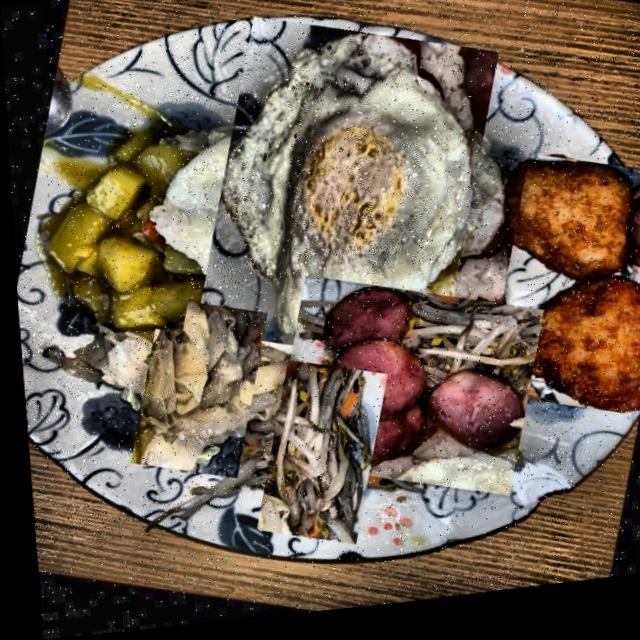Food: (158, 8, 528, 389), (251, 258, 550, 530), (462, 151, 640, 443), (25, 112, 225, 349), (103, 298, 282, 483), (226, 365, 404, 550)
